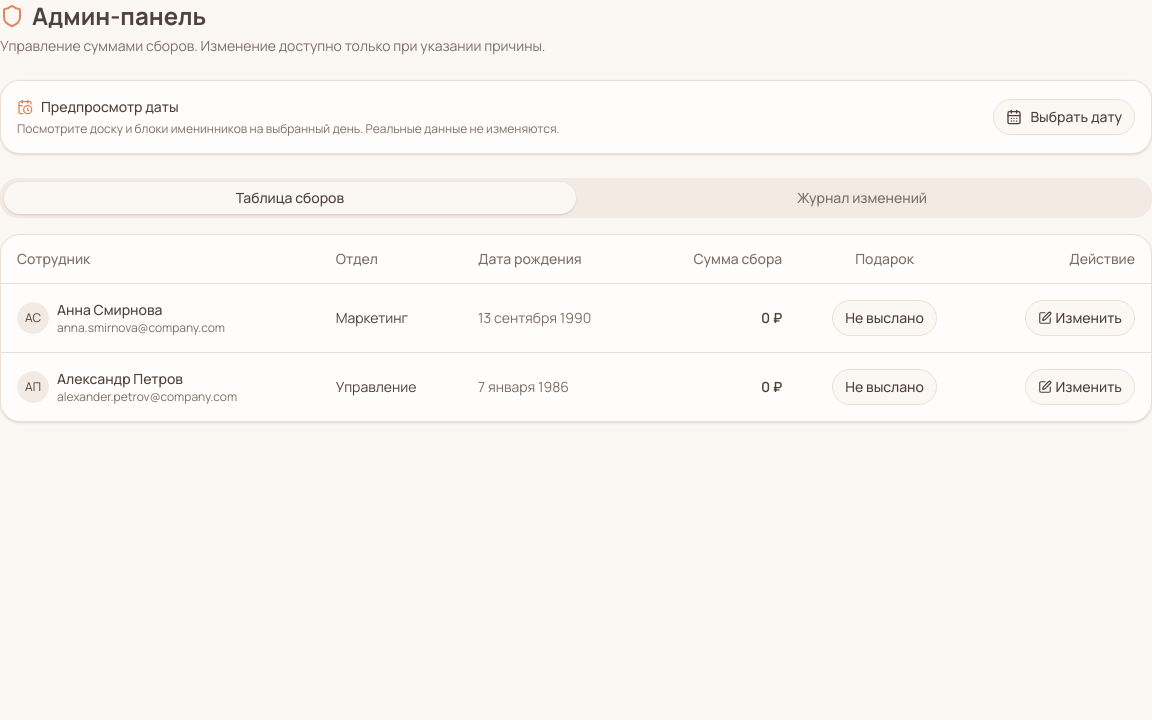
Test: AdminTable › admin sees the table and editing is gated by reason and comment
Expected: the tab "Таблица сборов" is shown, [4,182,576,214]
Expected: the column heading "Сумма сбора" is shown, [646,235,798,283]
Click the button "Изменить" in the row of "АС". click: (1080, 318)
box: [1025,300,1135,336]
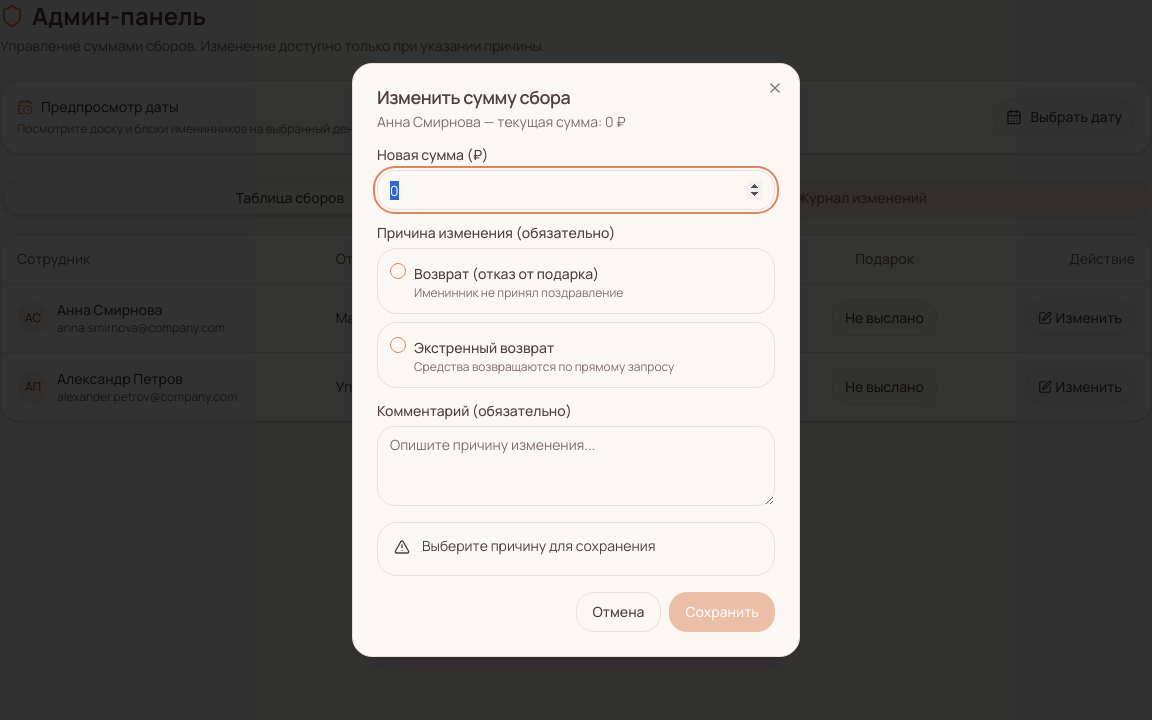
Now the heading "Изменить сумму сбора" is shown, box [377,85,570,109]
Now the button "Сохранить" is disabled, box [669,592,775,632]
Click the radio button named "Экстренный возврат" next to "Экстренный возврат". click: (398, 345)
box: [390,337,406,353]
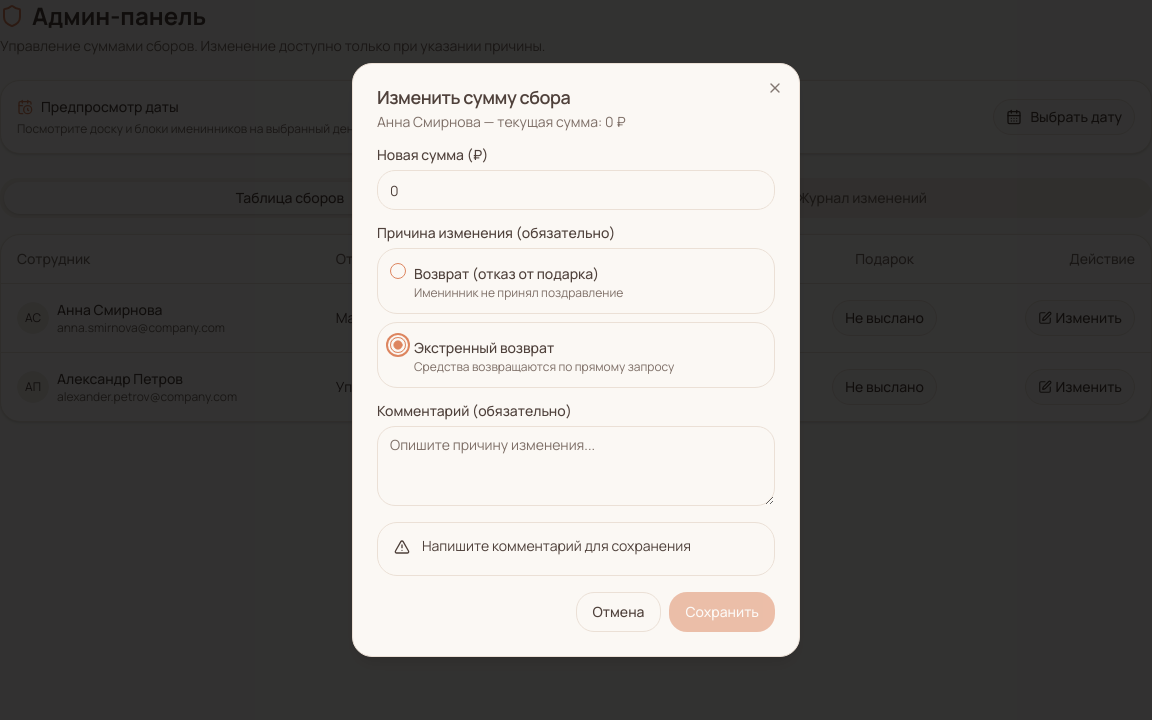
Now the button "Сохранить" is disabled, box [669,592,775,632]
Type "Возврат по запросу" into the text box labelled "Комментарий (обязательно)". click: (576, 466)
box: [377,426,775,506]
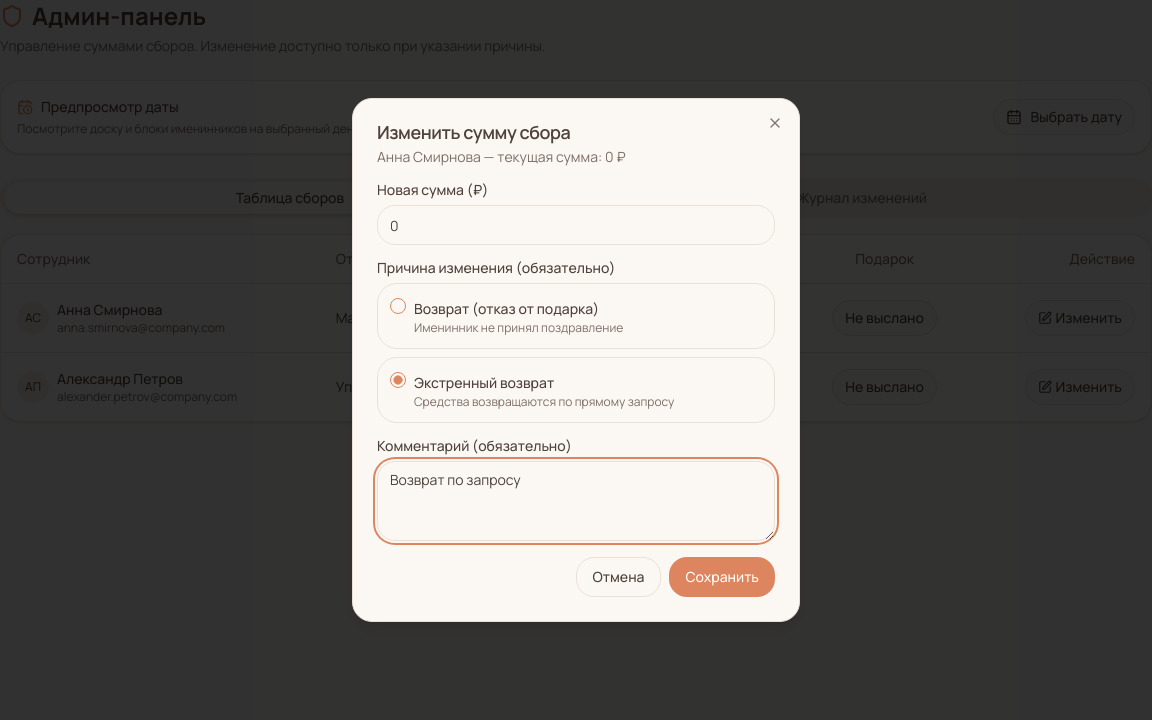
Now the button "Сохранить" is enabled, box [669,557,775,597]
